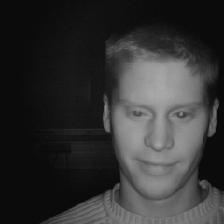happy: (96, 28, 220, 199)
